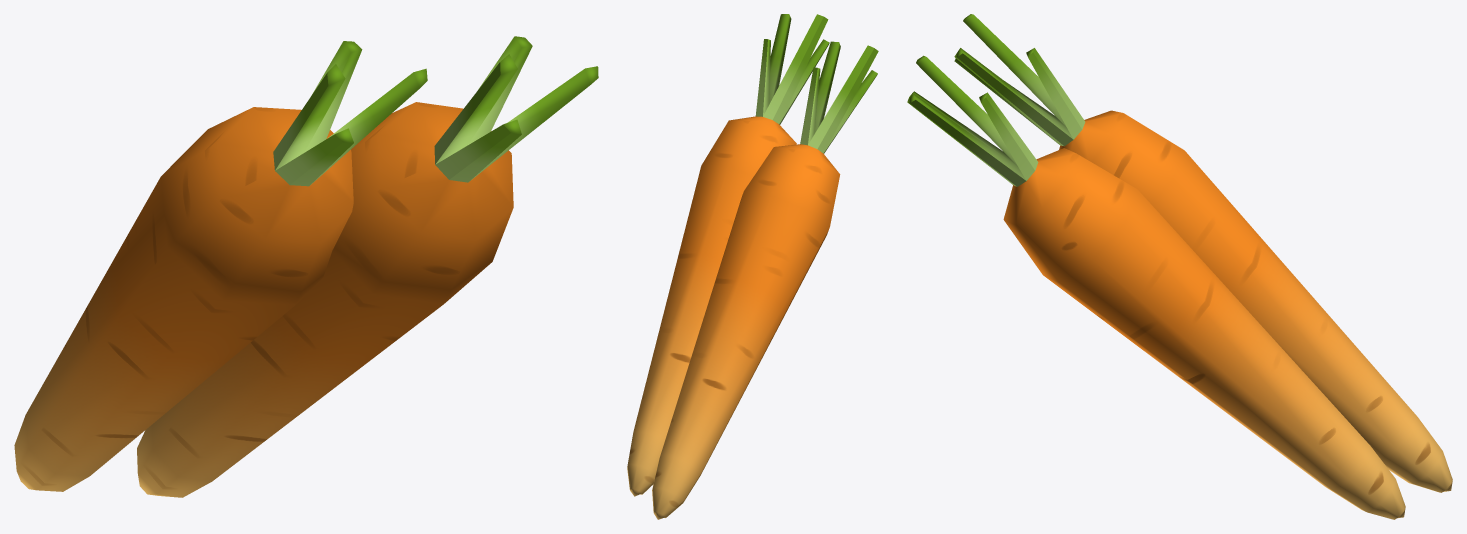
File: carrots.fbx
3 views of the same model, side by side, from view 1: azimuth 30°, elevation 25°; view 2: azimuth 150°, elevation 25°; view 3: azimuth 270°, elevation 25° (orthographic). The views are drawn at different scales.
Visible parts, largest first — view 1: Carrot.002, Carrot.003; view 2: Carrot.002, Carrot.003; view 3: Carrot.003, Carrot.002.
Boxes of the visible parts, x1,y1,x2,y2 form: Carrot.002: [14, 41, 427, 491]; Carrot.003: [137, 36, 598, 497]; Carrot.002: [652, 41, 878, 519]; Carrot.003: [627, 14, 829, 496]; Carrot.003: [907, 55, 1405, 519]; Carrot.002: [954, 14, 1452, 492].
Size of the model in its own units: 20.63 by 47.44 by 50.88.
Materials: 2 (2 with a texture image).
